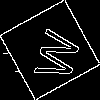W: (25, 25, 82, 83)
